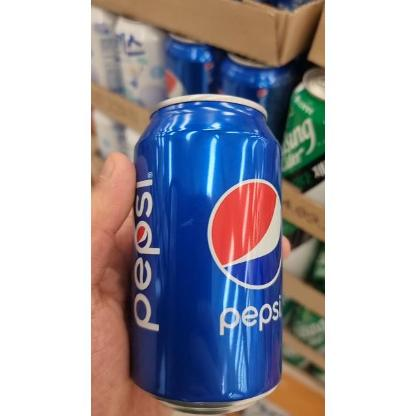Can: (132, 92, 282, 414)
